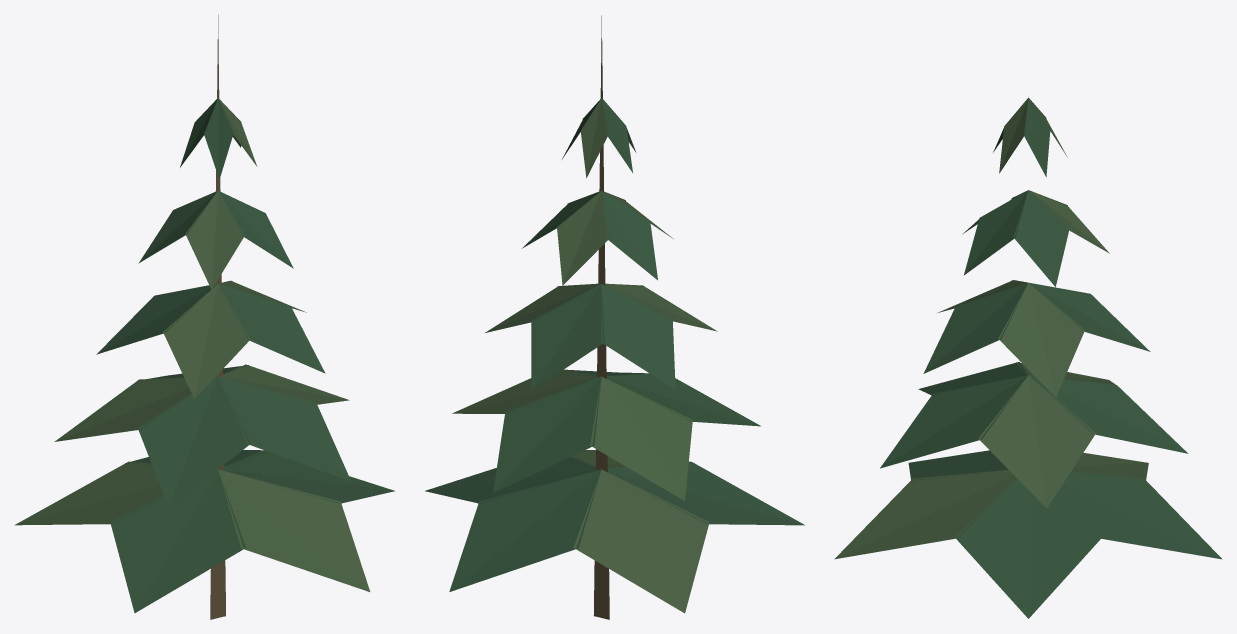
File: taiga-seedling.glb
3 renders of one model, left to right at view 1: azimuth 30°, elevation 25°; view 2: azimuth 150°, elevation 25°; view 3: azimuth 270°, elevation 25°, orthographic.
Visible parts, largest first — view 1: Хвойная поросль; view 2: Хвойная поросль; view 3: Хвойная поросль.
Part boxes in pixels (left/top/right/bottom): Хвойная поросль: left=14, top=14, right=394, bottom=619; Хвойная поросль: left=425, top=15, right=804, bottom=619; Хвойная поросль: left=834, top=97, right=1221, bottom=618.
Size of the model in its own units: 0.7238 by 1.3 by 0.7607.
